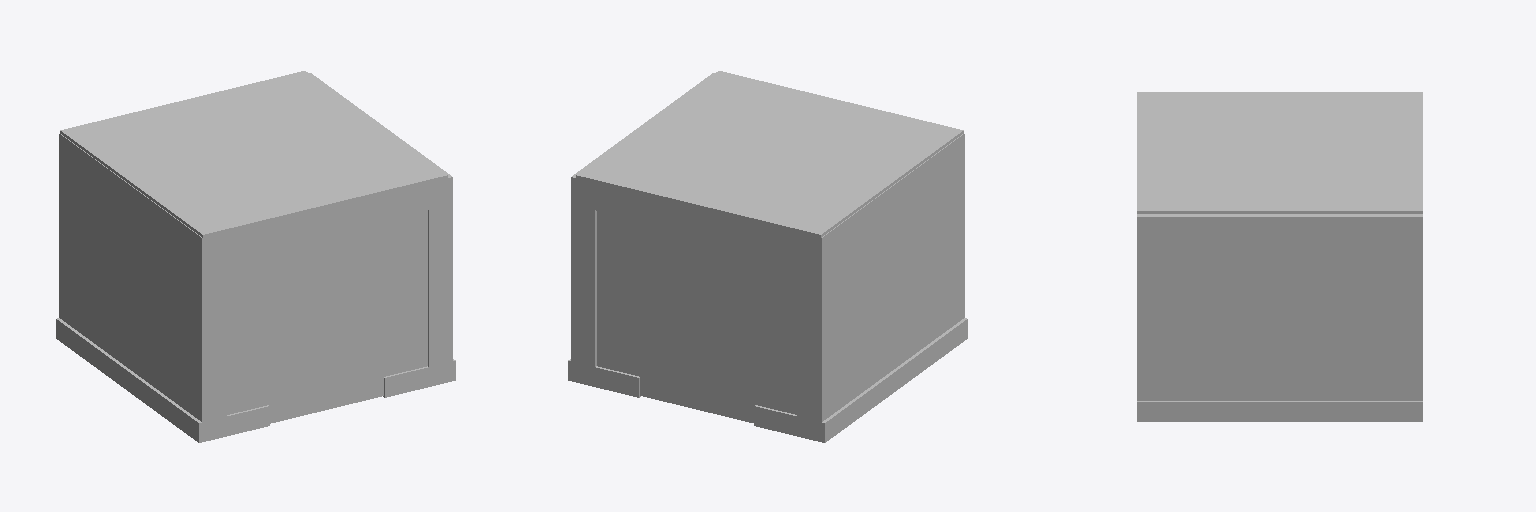
The model's file is EV_col.obj.
The picture shows the model from 3 angles: view 1: azimuth 30°, elevation 25°; view 2: azimuth 150°, elevation 25°; view 3: azimuth 270°, elevation 25°; orthographic projection.
Parts seen in each view (by area): view 1: EV_col.4, EV_col.1, EV_col.2, EV_col.3, EV_col.5, EV_col.6; view 2: EV_col.4, EV_col, EV_col.2, EV_col.3, EV_col.5, EV_col.6; view 3: EV_col.3, EV_col.4, EV_col.6.
Boxes of the visible parts, x1,y1,x2,y2 form: EV_col.4: [60, 71, 447, 264]; EV_col.1: [227, 174, 449, 423]; EV_col.2: [59, 134, 226, 440]; EV_col.3: [309, 73, 452, 385]; EV_col.5: [56, 318, 269, 442]; EV_col.6: [383, 359, 455, 397]; EV_col.4: [576, 71, 963, 264]; EV_col: [575, 173, 796, 422]; EV_col.2: [797, 134, 964, 435]; EV_col.3: [571, 73, 714, 385]; EV_col.5: [754, 318, 967, 442]; EV_col.6: [568, 359, 640, 397]; EV_col.3: [1137, 214, 1422, 400]; EV_col.4: [1137, 92, 1422, 213]; EV_col.6: [1137, 401, 1422, 421].
Size of the model in its own units: 23.85 by 18.41 by 22.98.